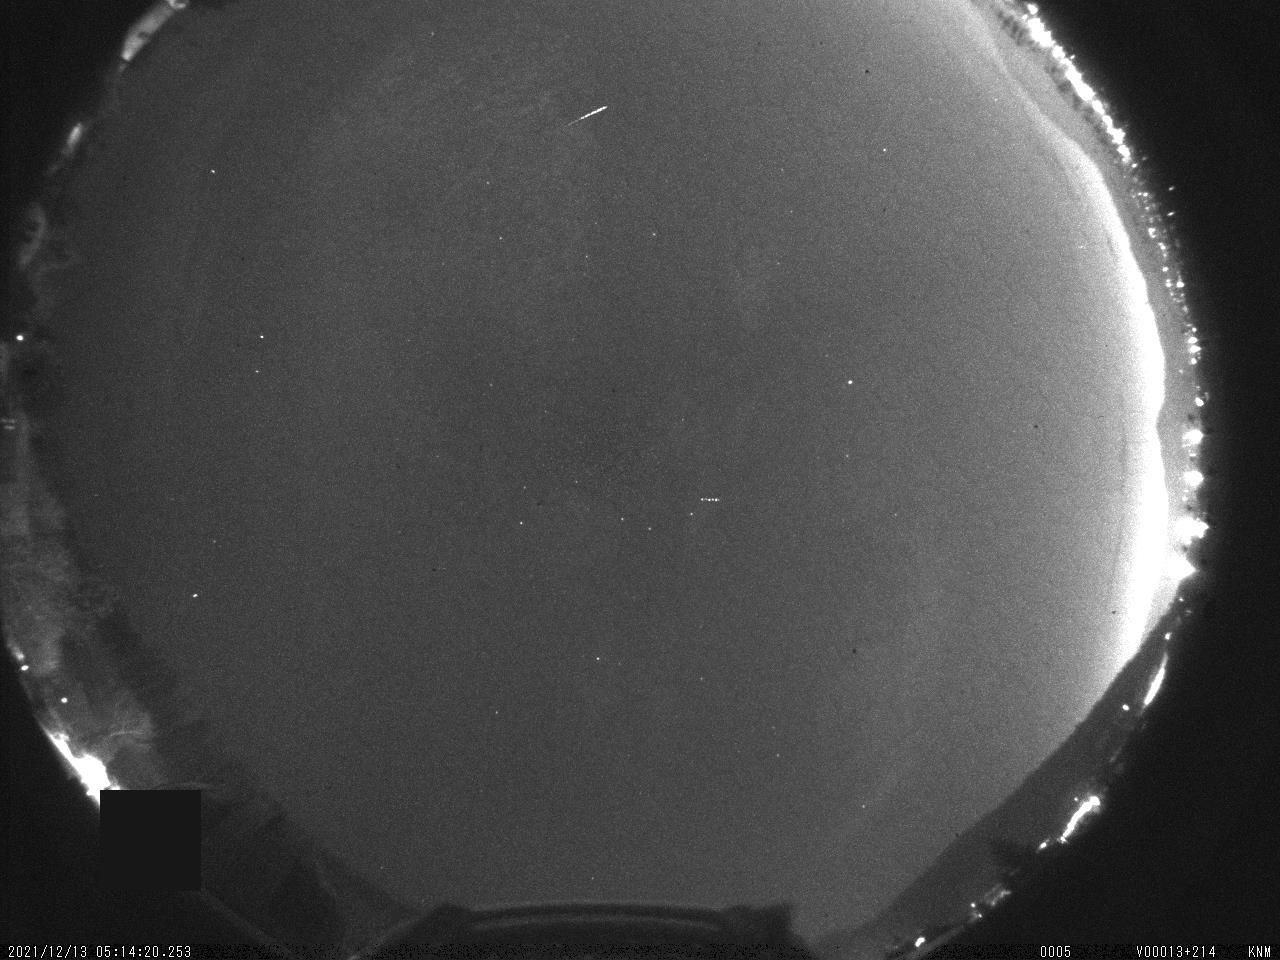meteor: (548, 89, 637, 147)
